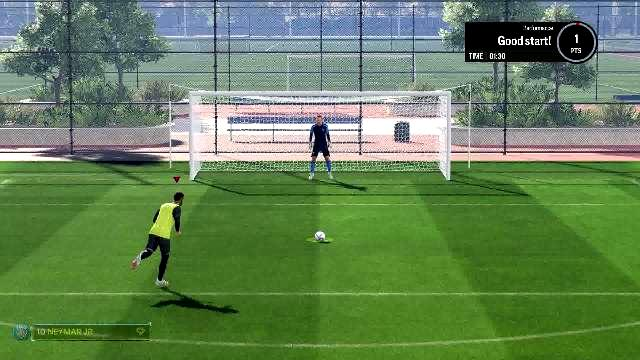bottom-left: (195, 141, 275, 181)
bottom-right: (360, 140, 444, 180)
center-down: (277, 139, 361, 179)
center-up: (280, 97, 364, 139)
circle: (303, 238, 337, 242)
football: (314, 232, 328, 242)
goalkeeper: (306, 113, 340, 181)
player: (131, 187, 185, 291)
top-left: (199, 97, 279, 139)
top-right: (361, 98, 443, 140)
